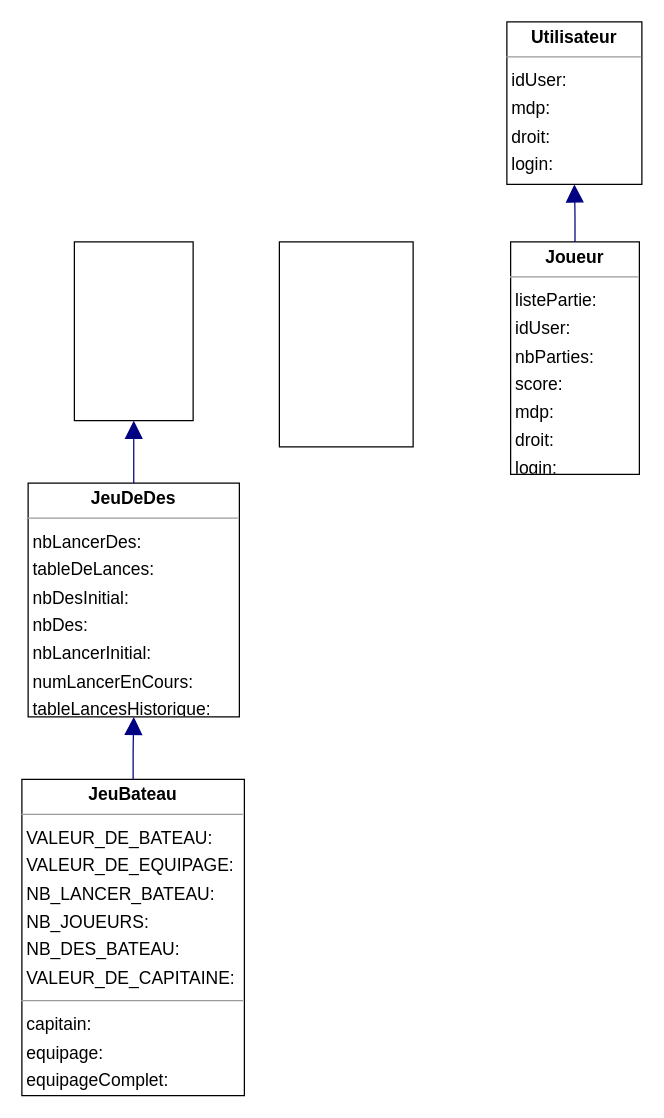
Some shapes in this 664 by 1118 pixel diagram are drawn without their labels. Each missing label, with the box of its shape:
Jeu lstParties: score: lstPartie: regle: idJeu:: (73, 241, 193, 421)
Partie gagnant: idPartie: dateHeure: jeu: nbJoueur: lstJoueurs:: (278, 241, 413, 447)
